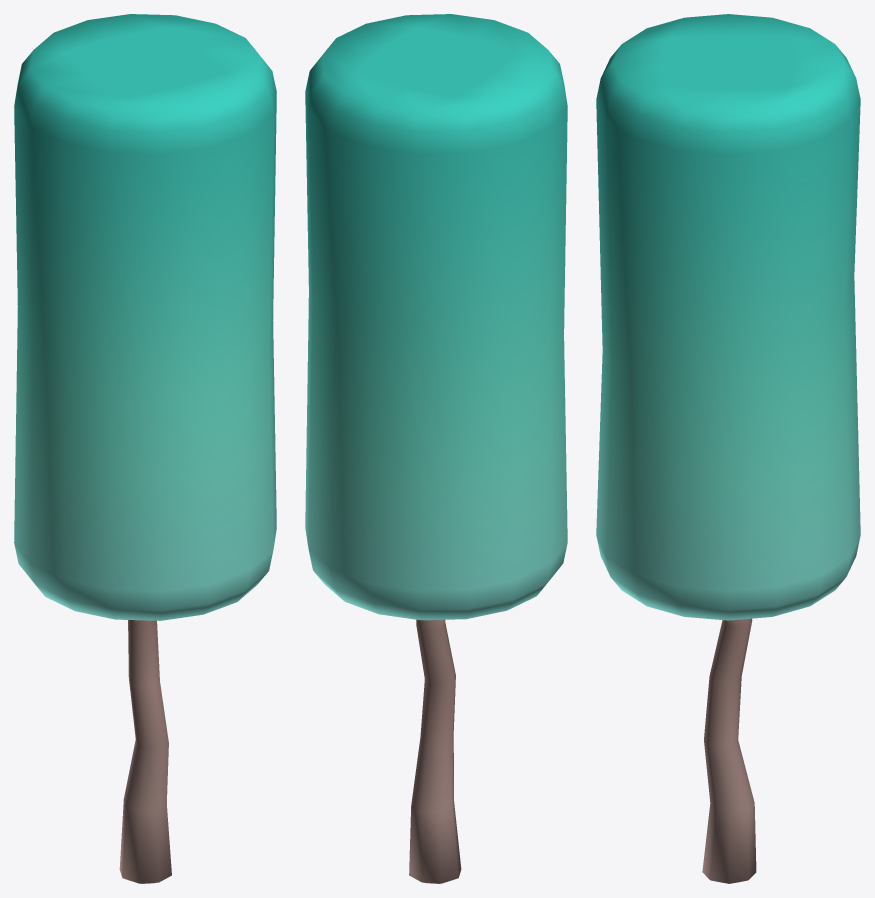
The model's file is Tree04_S_Blue.fbx.
3 renders of one model, left to right at view 1: azimuth 30°, elevation 25°; view 2: azimuth 150°, elevation 25°; view 3: azimuth 270°, elevation 25°, orthographic.
Parts seen in each view (by area): view 1: Tree04_S_Blue; view 2: Tree04_S_Blue; view 3: Tree04_S_Blue.
Part boxes in pixels (x1,y1,x2,y2): Tree04_S_Blue: [14, 14, 276, 883]; Tree04_S_Blue: [305, 14, 567, 883]; Tree04_S_Blue: [596, 14, 860, 883].
Bounding box in the file's own units: 2.31 × 7.86 × 2.31.
